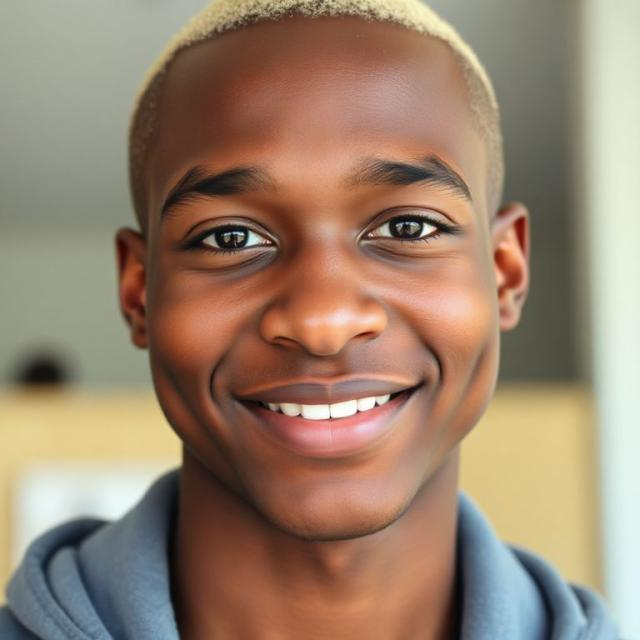0_rostro_limpio: (116, 0, 532, 541)
